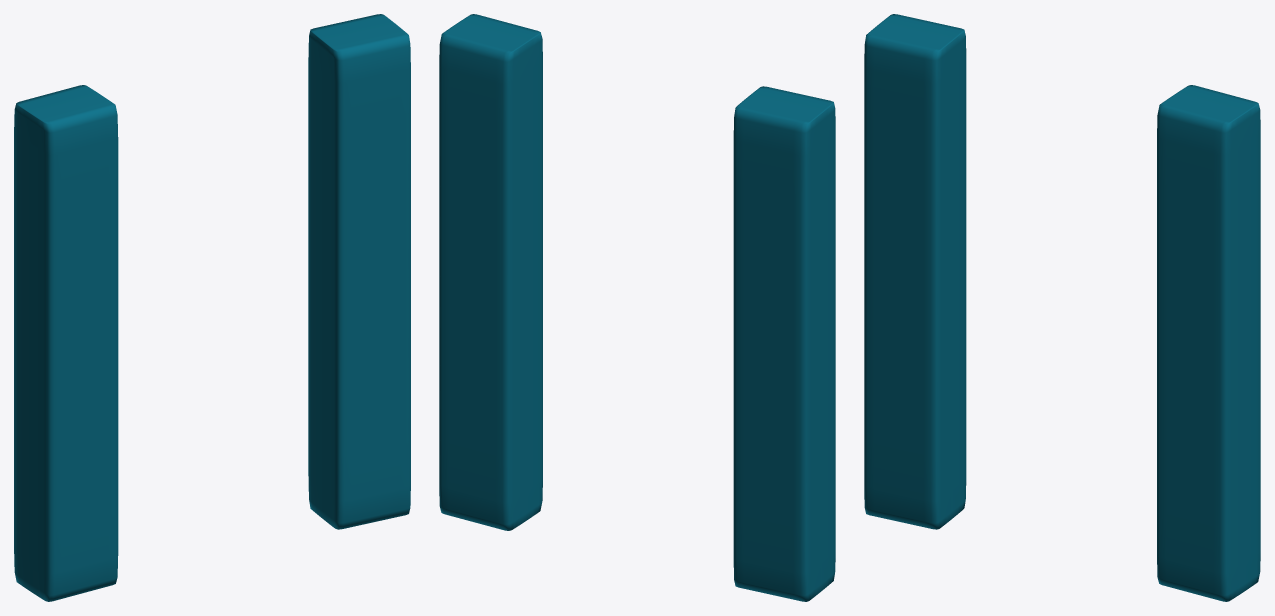
File: ob_2f window pillar.FBX
The picture shows the model from 3 angles, left to right: view 1: azimuth 30°, elevation 25°; view 2: azimuth 150°, elevation 25°; view 3: azimuth 330°, elevation 25°; orthographic projection.
Visible parts, largest first — view 1: ob_2f window pillar l; view 2: ob_2f window pillar l; view 3: ob_2f window pillar l.
Boxes of the visible parts, <box> form: ob_2f window pillar l: <box>14,14,410,601</box>; ob_2f window pillar l: <box>439,14,835,601</box>; ob_2f window pillar l: <box>864,14,1260,601</box>.
Bounding box in the file's own units: 468 × 581 × 81.04.
